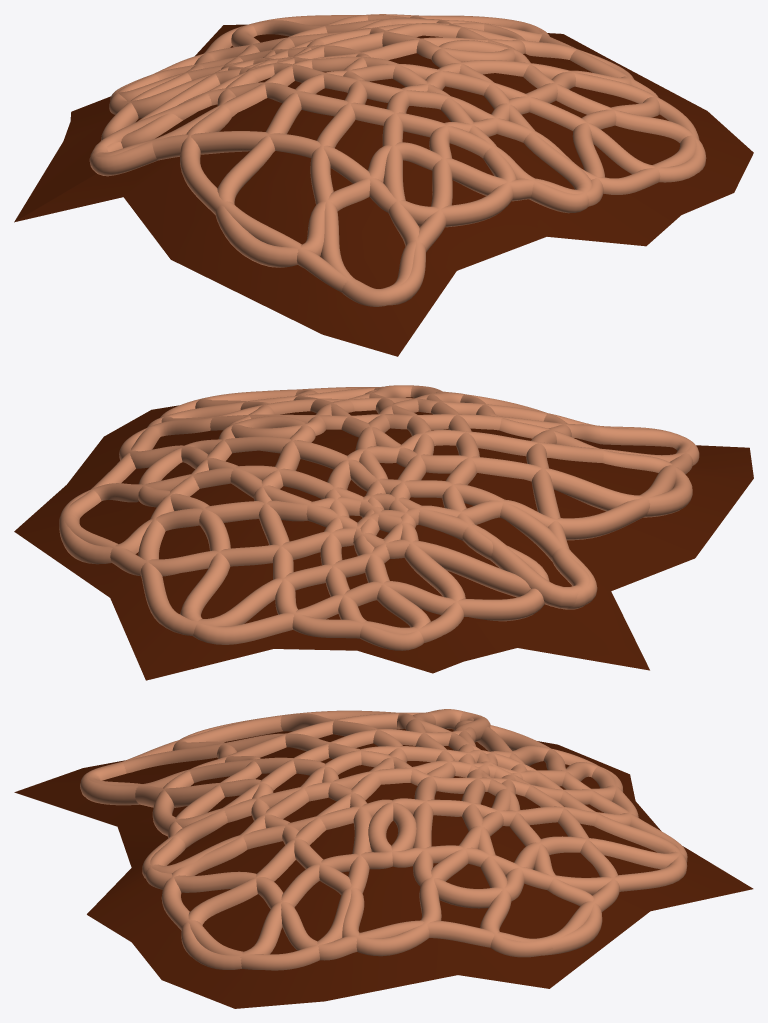
The model's file is fungle mass 1.fbx.
3 views of the same model, one above another, from view 1: azimuth 30°, elevation 25°; view 2: azimuth 150°, elevation 25°; view 3: azimuth 270°, elevation 25° (orthographic). The views are drawn at different scales.
Parts seen in each view (by area): view 1: Plane; view 2: Plane; view 3: Plane.
Boxes of the visible parts, bbox=[...] form: Plane: bbox=[14, 14, 753, 356]; Plane: bbox=[14, 385, 753, 680]; Plane: bbox=[14, 709, 753, 1008].
Bounding box in the file's own units: 281 × 51.56 × 303.
